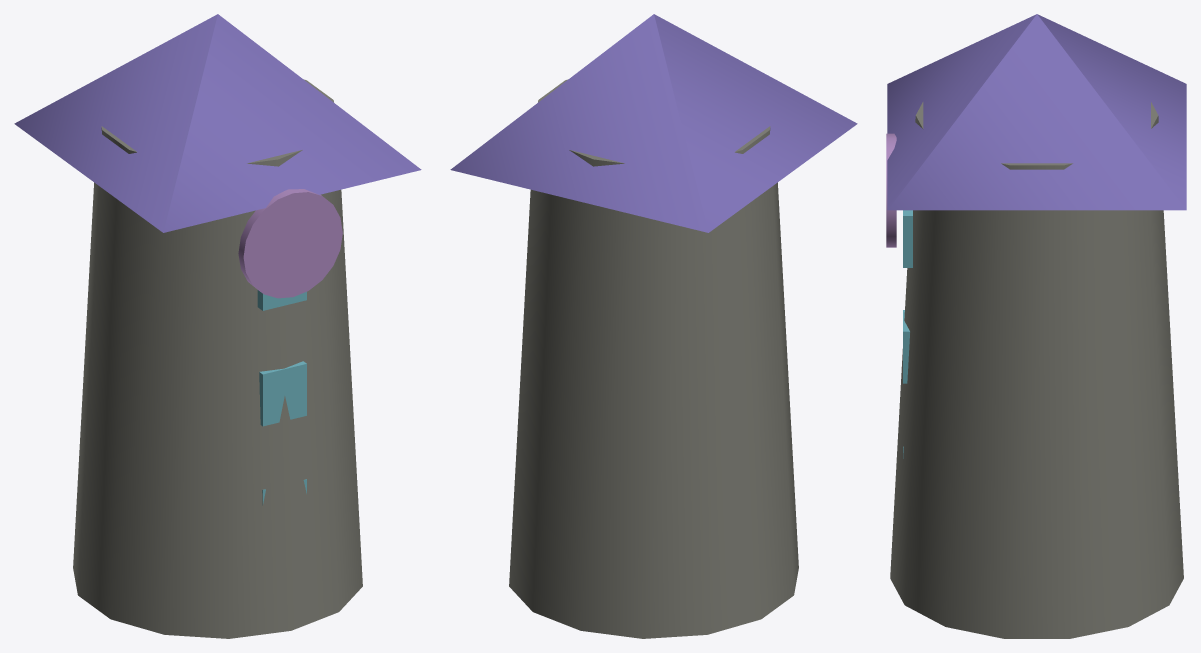
Rendered from clock_tower.glb.
3 renders of one model, left to right at view 1: azimuth 30°, elevation 25°; view 2: azimuth 150°, elevation 25°; view 3: azimuth 270°, elevation 25°, orthographic.
Visible parts, largest first — view 1: tower_body, tower_roof, clock, window_4; view 2: tower_body, tower_roof; view 3: tower_body, tower_roof, clock, window_6.
Part boxes in pixels (bbox=[...]): tower_body: bbox=[73, 79, 362, 638]; tower_roof: bbox=[14, 14, 421, 232]; clock: bbox=[238, 189, 342, 298]; window_4: bbox=[259, 361, 306, 426]; tower_body: bbox=[509, 79, 798, 638]; tower_roof: bbox=[450, 14, 857, 232]; tower_body: bbox=[890, 102, 1183, 638]; tower_roof: bbox=[887, 14, 1186, 210]; clock: bbox=[886, 133, 896, 247]; window_6: bbox=[903, 210, 912, 267].
Size of what is drawn, in the model's own units: 4.68 by 9.75 by 4.7.
